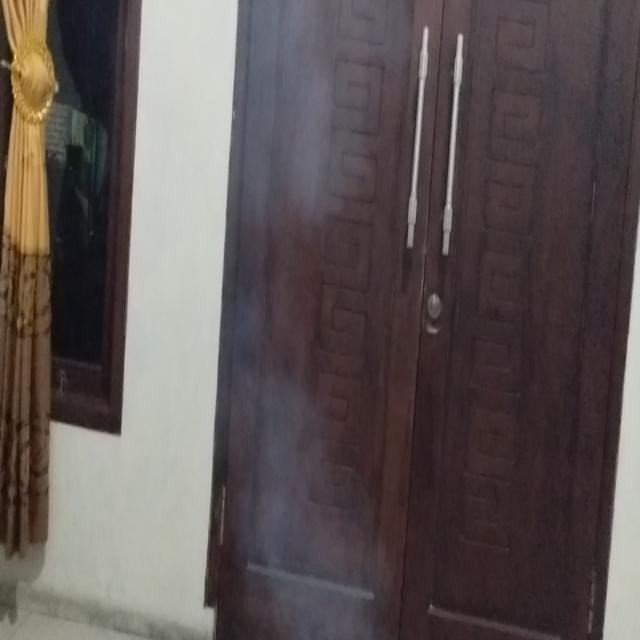smoke: (197, 31, 360, 640)
